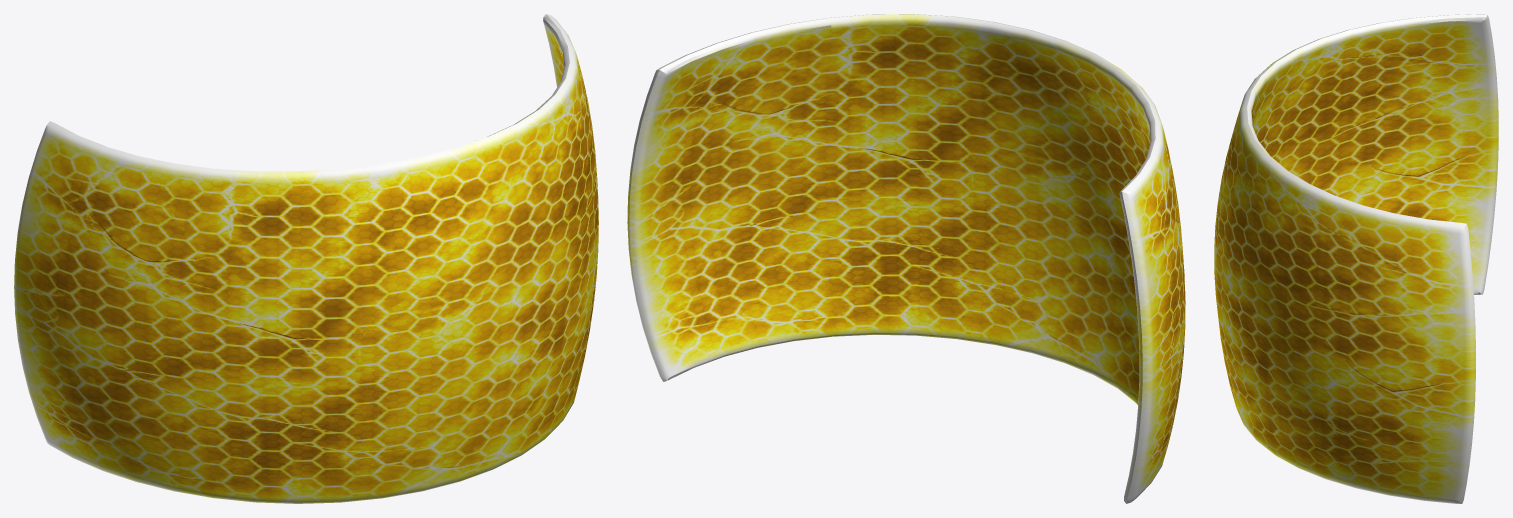
Rendered from ShieldYellow.obj.
3 views of the same model, side by side, from view 1: azimuth 30°, elevation 25°; view 2: azimuth 150°, elevation 25°; view 3: azimuth 270°, elevation 25° (orthographic). The views are drawn at different scales.
Parts seen in each view (by area): view 1: Holo_shield_mesh; view 2: Holo_shield_mesh; view 3: Holo_shield_mesh.
Boxes of the visible parts, box(x1,y1,x2,y2) form: Holo_shield_mesh: box(14, 14, 598, 503); Holo_shield_mesh: box(627, 14, 1185, 503); Holo_shield_mesh: box(1214, 14, 1498, 503).
Bounding box in the file's own units: 2.85 × 1.65 × 1.46.
